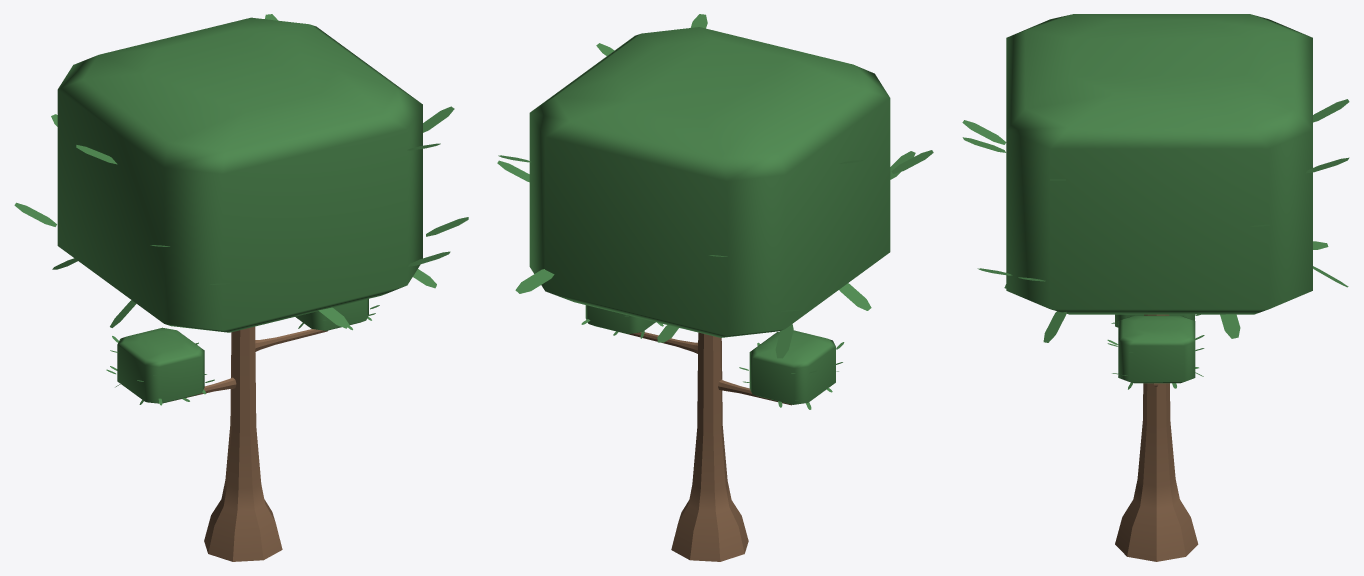
The model's file is TreeLarge.fbx.
The picture shows the model from 3 angles, left to right: view 1: azimuth 30°, elevation 25°; view 2: azimuth 150°, elevation 25°; view 3: azimuth 270°, elevation 25°; orthographic projection. The views are drawn at different scales.
Parts seen in each view (by area): view 1: polySurface128; view 2: polySurface128; view 3: polySurface128.
Boxes of the visible parts, bbox=[...] form: polySurface128: bbox=[14, 14, 468, 561]; polySurface128: bbox=[497, 14, 933, 561]; polySurface128: bbox=[962, 14, 1349, 561].
Bounding box in the file's own units: 3.41 × 4.78 × 3.45.
